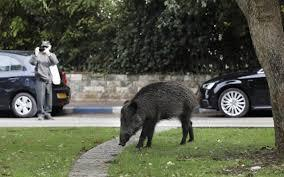wildboar: (117, 79, 201, 149)
